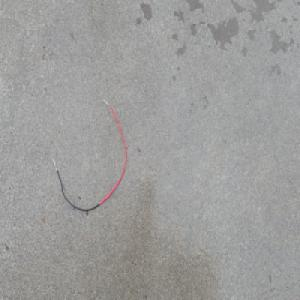Wire: (50, 97, 127, 214)
